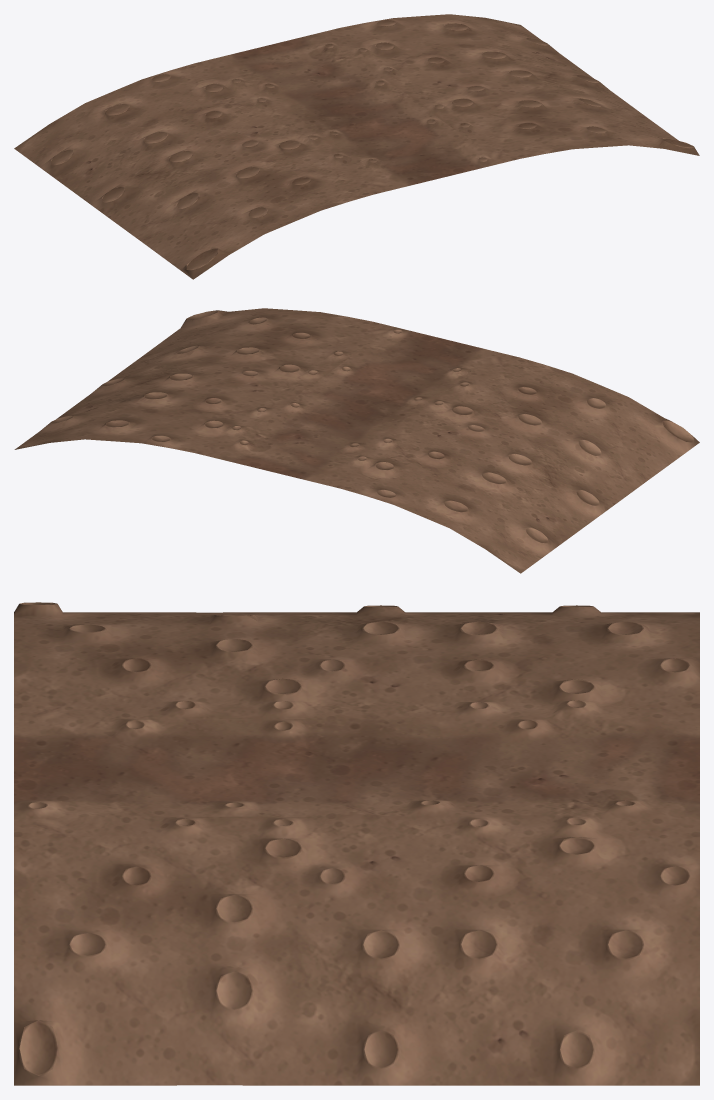
Rendered from asteroid_floor.FBX.
3 views of the same model, one above another, from view 1: azimuth 30°, elevation 25°; view 2: azimuth 150°, elevation 25°; view 3: azimuth 270°, elevation 25° (orthographic). The views are drawn at different scales.
Visible parts, largest first — view 1: asteroid_floor; view 2: asteroid_floor; view 3: asteroid_floor.
Part boxes in pixels (x1=…): asteroid_floor: x1=14, y1=14, x2=699, y2=279; asteroid_floor: x1=14, y1=308, x2=699, y2=573; asteroid_floor: x1=14, y1=602, x2=699, y2=1085.
Bounding box in the file's own units: 35.91 × 3.09 × 21.98.
